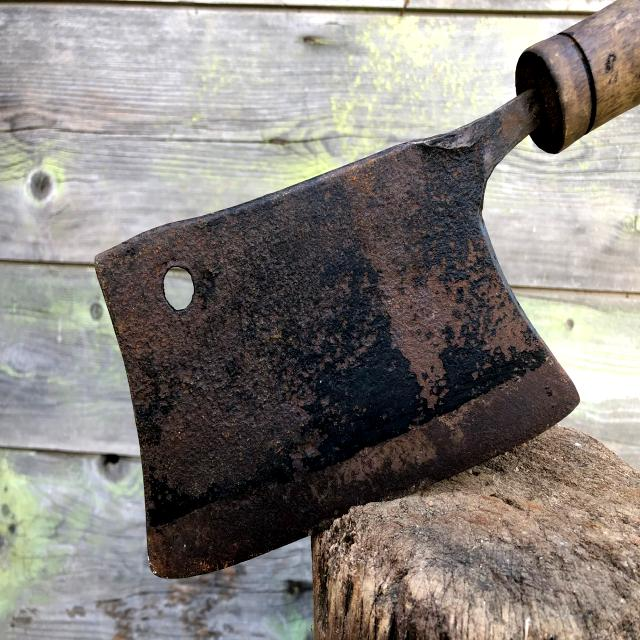cleaver: (105, 140, 545, 576)
